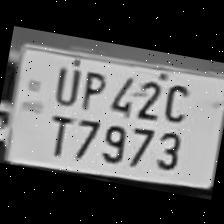2: (130, 70, 163, 118)
3: (148, 121, 186, 171)
4: (104, 66, 138, 114)
7: (66, 110, 101, 161), (123, 118, 155, 166)
9: (94, 115, 130, 164)
C: (159, 75, 192, 123)
P: (74, 60, 110, 110)
T: (38, 106, 76, 157)
U: (47, 55, 85, 106)
